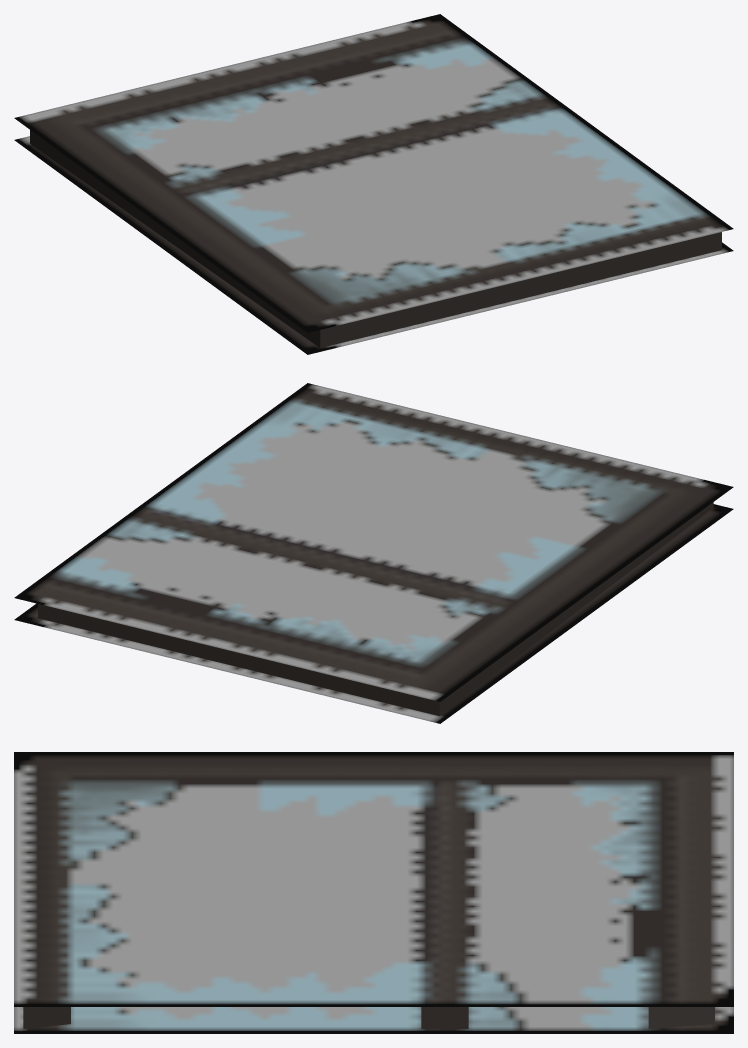
Rendered from pz_native_fixtures_windows_01_54_frame.obj.
The picture shows the model from 3 angles, top to bottom: view 1: azimuth 30°, elevation 25°; view 2: azimuth 150°, elevation 25°; view 3: azimuth 270°, elevation 25°; orthographic projection. The views are drawn at different scales.
Parts seen in each view (by area): view 1: pz_native_fixtures_windows_01_54_frame; view 2: pz_native_fixtures_windows_01_54_frame; view 3: pz_native_fixtures_windows_01_54_frame.
Part boxes in pixels (left/top/right/bottom): pz_native_fixtures_windows_01_54_frame: left=14, top=14, right=733, bottom=354; pz_native_fixtures_windows_01_54_frame: left=14, top=383, right=733, bottom=723; pz_native_fixtures_windows_01_54_frame: left=14, top=752, right=733, bottom=1033.
Size of the model in its own units: 0.8125 by 0.04 by 0.9696.
Materials: 1 (1 with a texture image).
